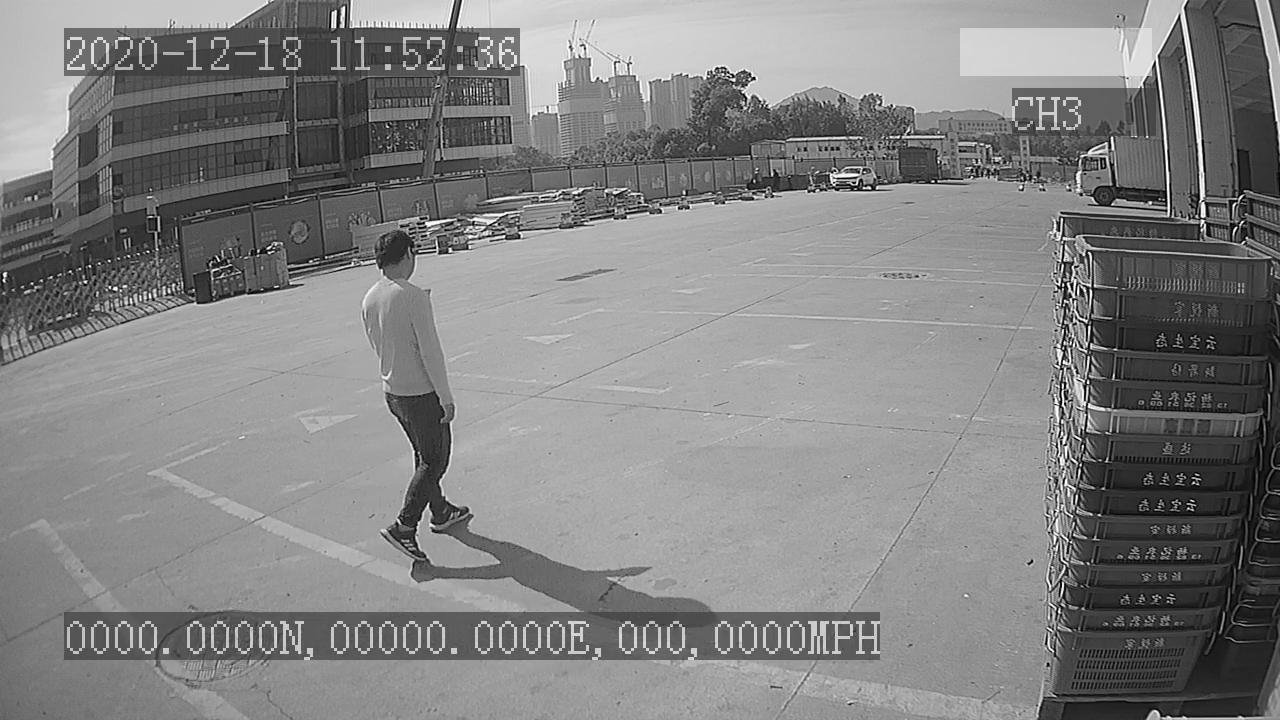person: (352, 222, 477, 577)
